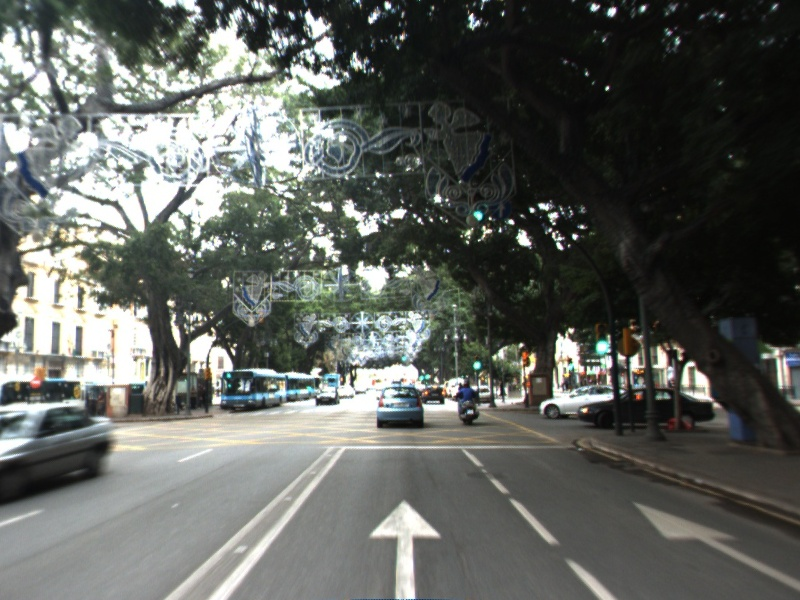STRAIGHT: (626, 497, 800, 591), (365, 496, 446, 600)
